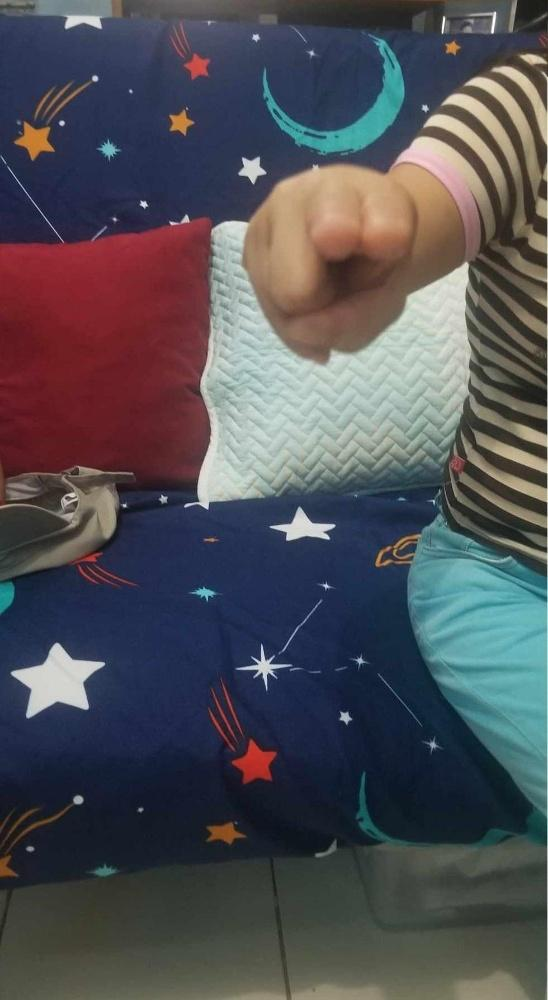n: (239, 161, 421, 369)
